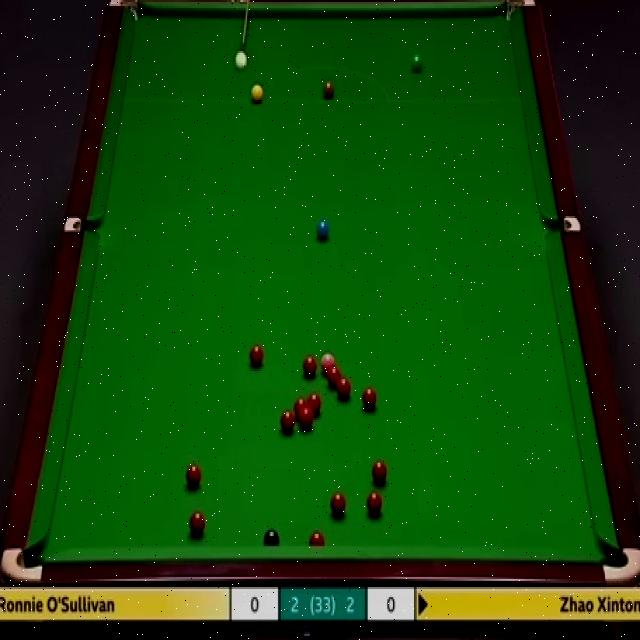black-ball: (264, 530, 281, 546)
blue-ball: (316, 221, 330, 238)
brown-ball: (323, 81, 335, 99)
green-ball: (410, 55, 423, 71)
pink-ball: (321, 352, 335, 373)
red-ball: (185, 463, 203, 490), (370, 461, 388, 486), (331, 491, 347, 518), (189, 513, 206, 536), (362, 386, 378, 410), (300, 357, 318, 378), (309, 391, 326, 413), (249, 341, 264, 365), (367, 492, 382, 516), (280, 409, 295, 433), (335, 376, 350, 399), (309, 529, 326, 546), (300, 407, 313, 428), (327, 366, 341, 384), (295, 398, 308, 417)
white-ball: (233, 50, 248, 70)
yellow-ball: (251, 84, 263, 104)
